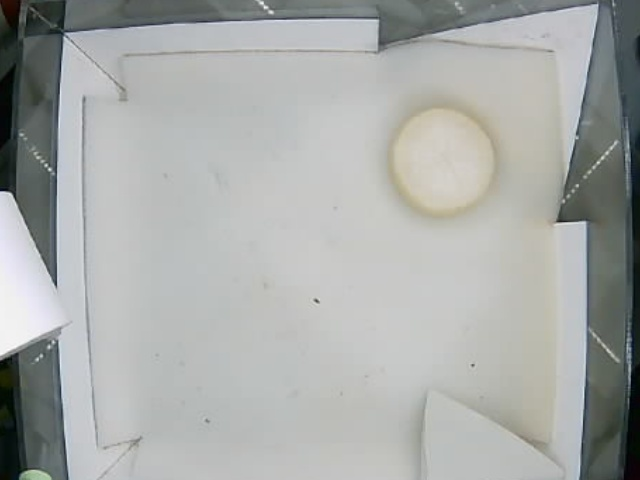China: (419, 387, 572, 480)
Mooli: (389, 104, 500, 217)
